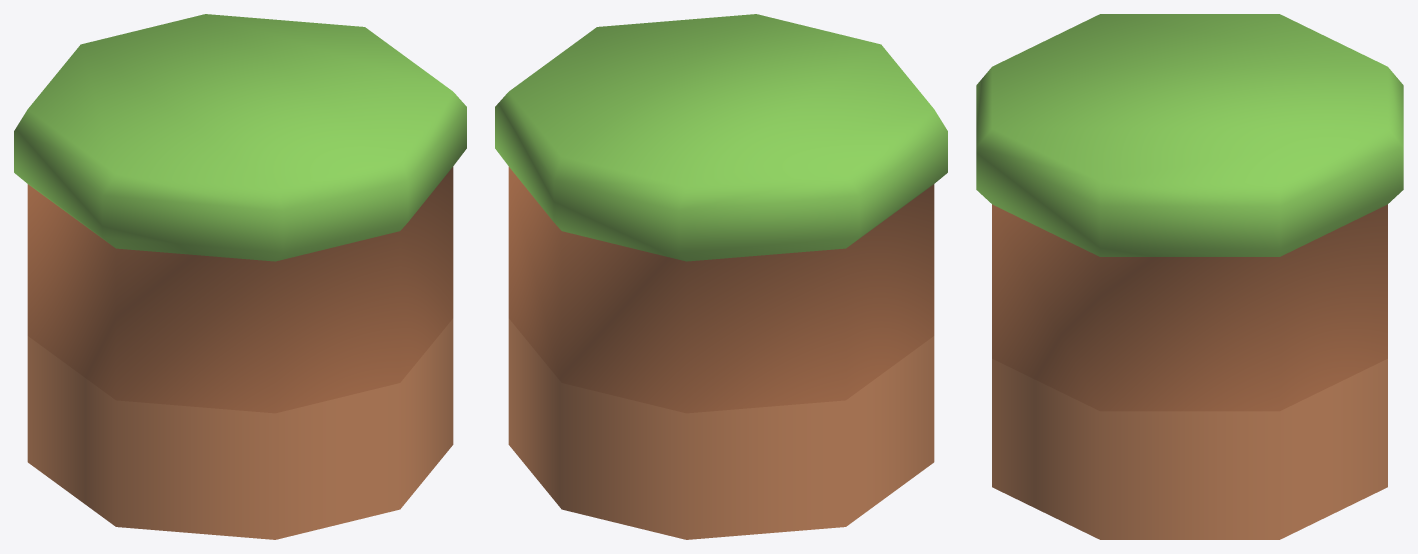
The model's file is 03_one_top.glb.
3 views of the same model, side by side, from view 1: azimuth 30°, elevation 25°; view 2: azimuth 150°, elevation 25°; view 3: azimuth 270°, elevation 25° (orthographic).
Visible parts, largest first — view 1: 03_one_top; view 2: 03_one_top; view 3: 03_one_top.
Part boxes in pixels (x1,y1,x2,y2): 03_one_top: (14, 14, 466, 539); 03_one_top: (495, 14, 947, 539); 03_one_top: (976, 14, 1403, 539).
Size of the model in its own units: 0.54 by 0.5 by 0.5398.
